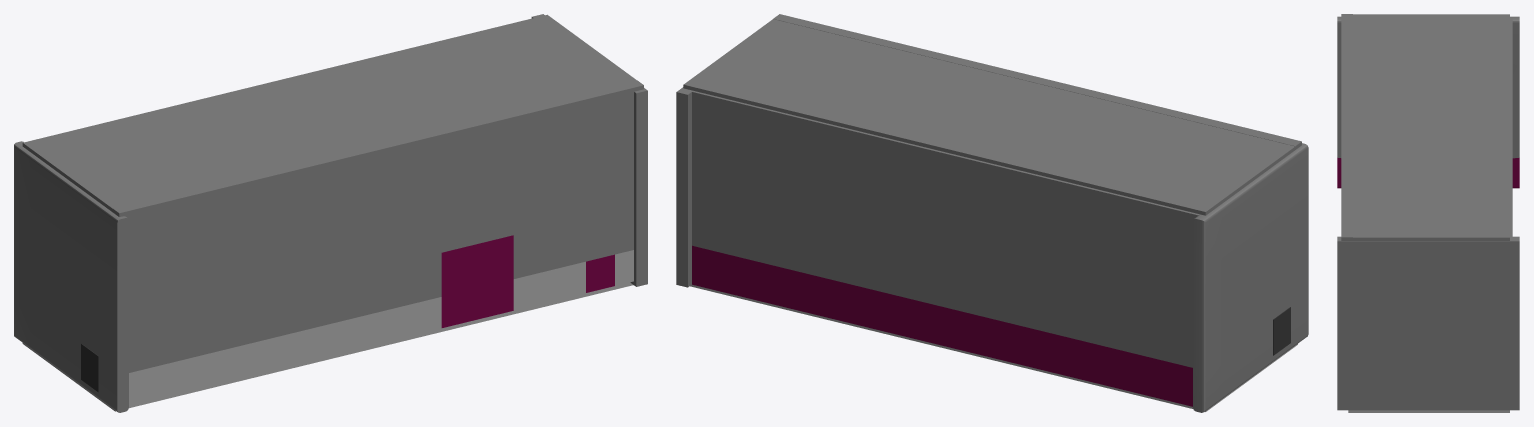
The model's file is bus inside.fbx.
3 renders of one model, left to right at view 1: azimuth 30°, elevation 25°; view 2: azimuth 150°, elevation 25°; view 3: azimuth 270°, elevation 25°, orthographic. The views are drawn at different scales.
Visible parts, largest first — view 1: pCube27; view 2: pCube27; view 3: pCube27.
Boxes of the visible parts, x1,y1,x2,y2 form: pCube27: (14, 14, 647, 412); pCube27: (676, 14, 1308, 412); pCube27: (1337, 14, 1519, 412).
Bounding box in the file's own units: 43.12 × 15.69 × 14.71.
